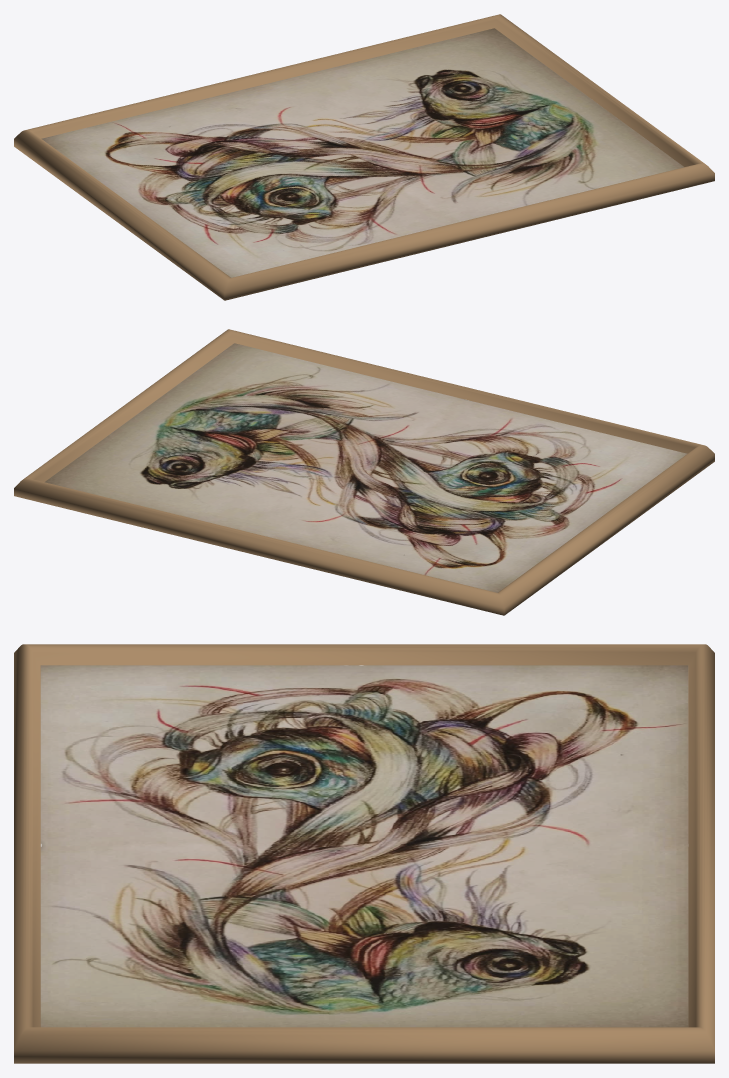
Rendered from entangled.glb.
3 renders of one model, top to bottom at view 1: azimuth 30°, elevation 25°; view 2: azimuth 150°, elevation 25°; view 3: azimuth 270°, elevation 25°, orthographic. The views are drawn at different scales.
Visible parts, largest first — view 1: entangled; view 2: entangled; view 3: entangled.
Boxes of the visible parts, <box> form: entangled: <box>14,14,714,300</box>; entangled: <box>14,329,714,615</box>; entangled: <box>14,644,714,1063</box>.
Size of the model in its own units: 1.08 by 0.0361 by 0.8025.
Materials: 2 (1 with a texture image).
